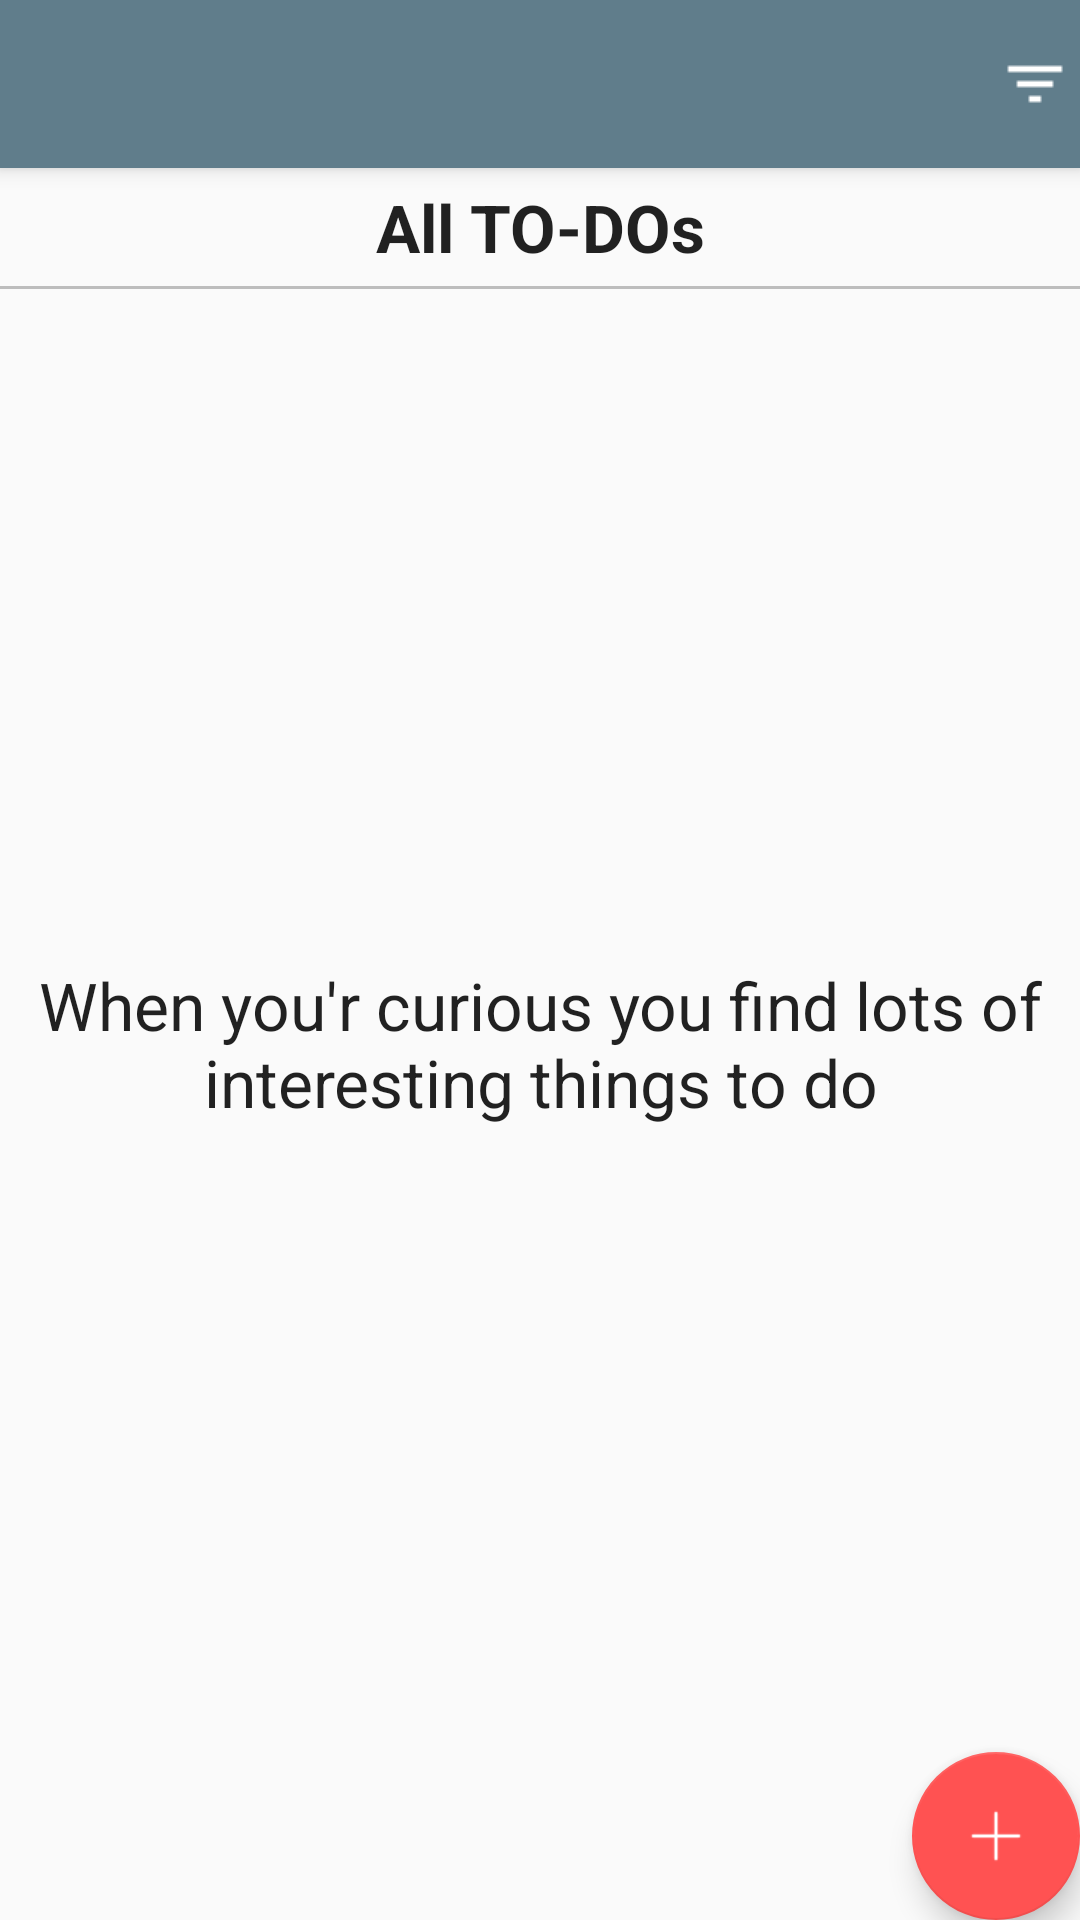

Named icons in this screenshot (1080 x 1920) and their bounding boxes, (x1=x1, y1=y1, x2=x2, y2=y2):
filter: (x1=1007, y1=65, x2=1063, y2=103)
plus: (x1=912, y1=1752, x2=1080, y2=1920)
